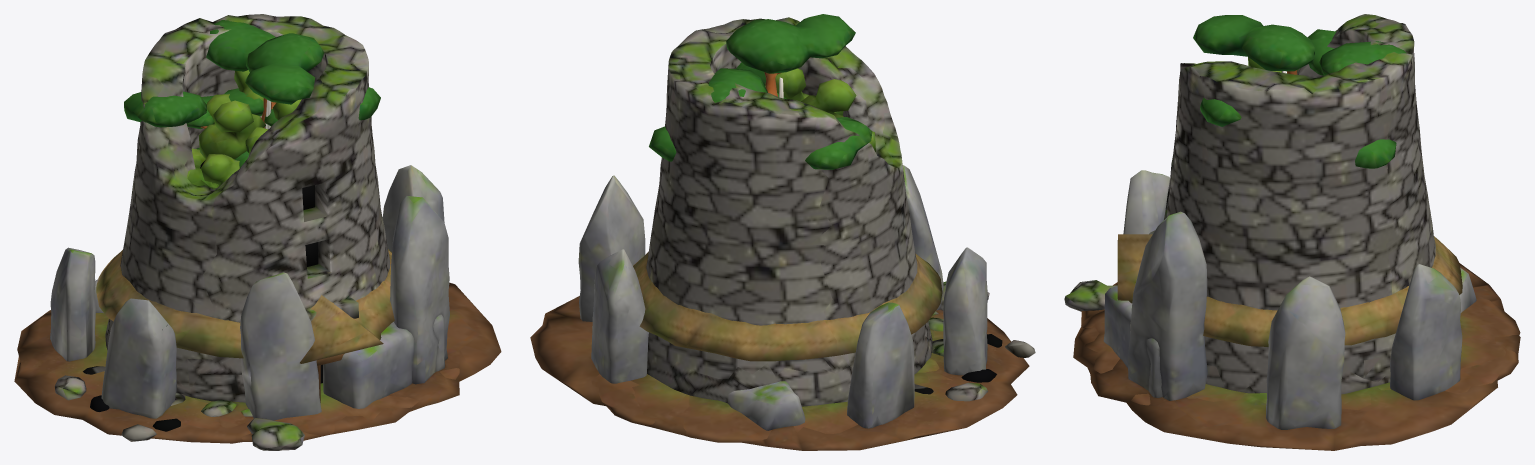
The model's file is iron_decor_highland.glb.
3 renders of one model, left to right at view 1: azimuth 30°, elevation 25°; view 2: azimuth 150°, elevation 25°; view 3: azimuth 270°, elevation 25°, orthographic. The views are drawn at different scales.
Visible parts, largest first — view 1: Broch, Circle, Pine_A, Roundhouse, Birch_A, Birch_B, Pine_B; view 2: Broch, Circle, Roundhouse, Pine_A, Birch_A; view 3: Broch, Circle, Pine_A, Roundhouse.
Boxes of the visible parts, left/top/right/bottom form: Broch: left=54, top=14, right=459, bottom=450; Circle: left=14, top=165, right=501, bottom=443; Pine_A: left=124, top=20, right=380, bottom=128; Roundhouse: left=96, top=249, right=394, bottom=402; Birch_A: left=191, top=70, right=301, bottom=168; Birch_B: left=187, top=127, right=267, bottom=189; Pine_B: left=187, top=88, right=277, bottom=167; Broch: left=591, top=17, right=1035, bottom=442; Circle: left=530, top=165, right=1029, bottom=450; Roundhouse: left=633, top=252, right=942, bottom=372; Pine_A: left=649, top=14, right=872, bottom=169; Birch_A: left=775, top=68, right=856, bottom=117; Broch: left=1064, top=14, right=1520, bottom=410; Circle: left=1073, top=170, right=1520, bottom=450; Pine_A: left=1193, top=15, right=1406, bottom=168; Roundhouse: left=1117, top=234, right=1462, bottom=346.
Size of the model in its own units: 4.38 by 3.22 by 3.83.
1 material, 1 textured.
